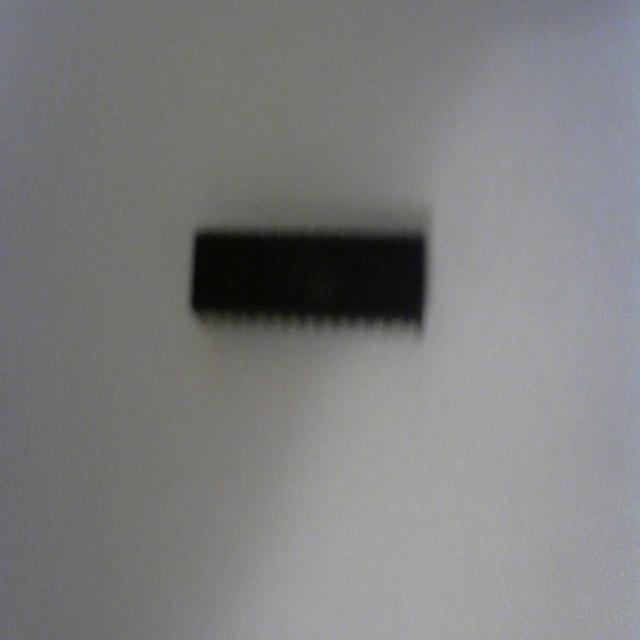atmega: (188, 220, 430, 338)
